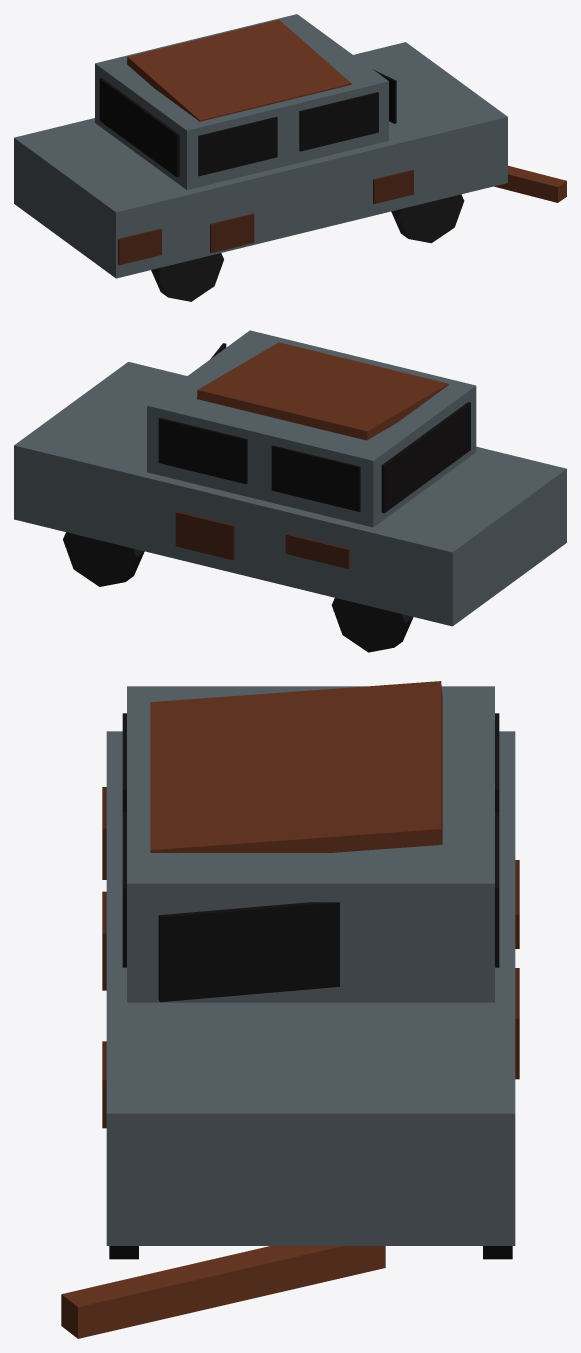
File: car_wreck.glb
3 views of the same model, one above another, from view 1: azimuth 30°, elevation 25°; view 2: azimuth 150°, elevation 25°; view 3: azimuth 270°, elevation 25° (orthographic). The views are drawn at different scales.
Parts seen in each view (by area): view 1: car_wreck2; view 2: car_wreck2; view 3: car_wreck2.
Part boxes in pixels (x1,y1,x2,y2): car_wreck2: [14, 14, 566, 301]; car_wreck2: [14, 330, 566, 652]; car_wreck2: [61, 681, 519, 1338].
Bounding box in the file's own units: 3.51 × 1.36 × 1.57.
